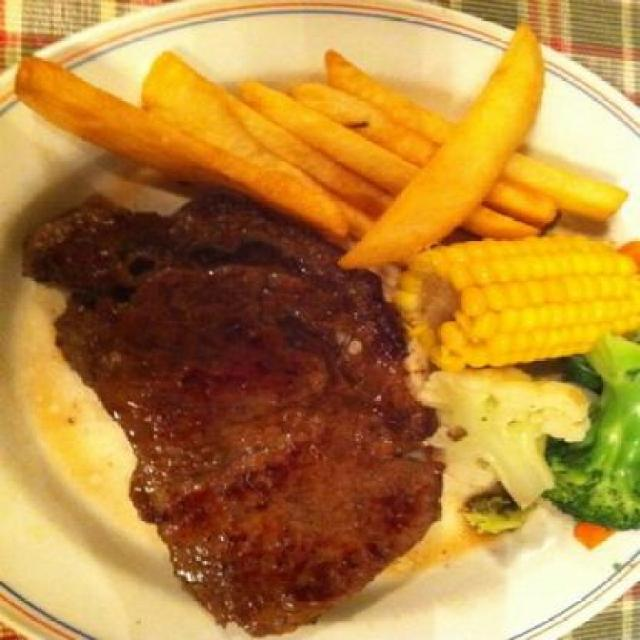French fries: (94, 58, 617, 251)
Steak: (24, 234, 430, 623)
